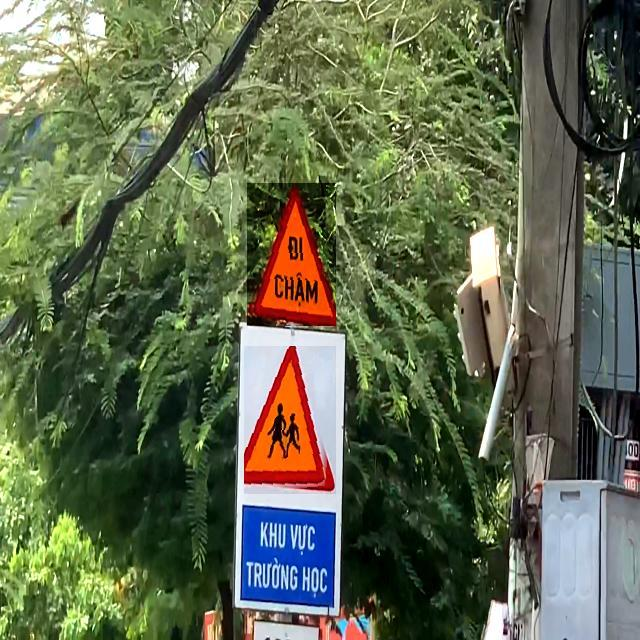W-235: (244, 346, 336, 494)
W-245a: (247, 183, 336, 326)
